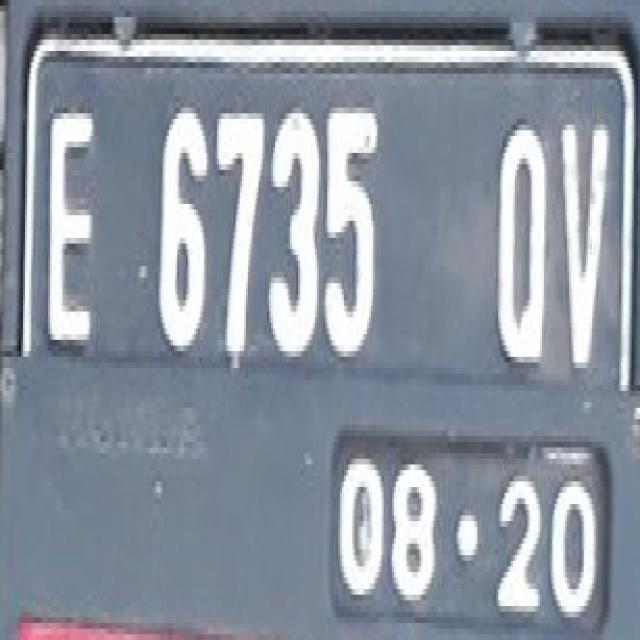plate: (20, 18, 633, 636)
